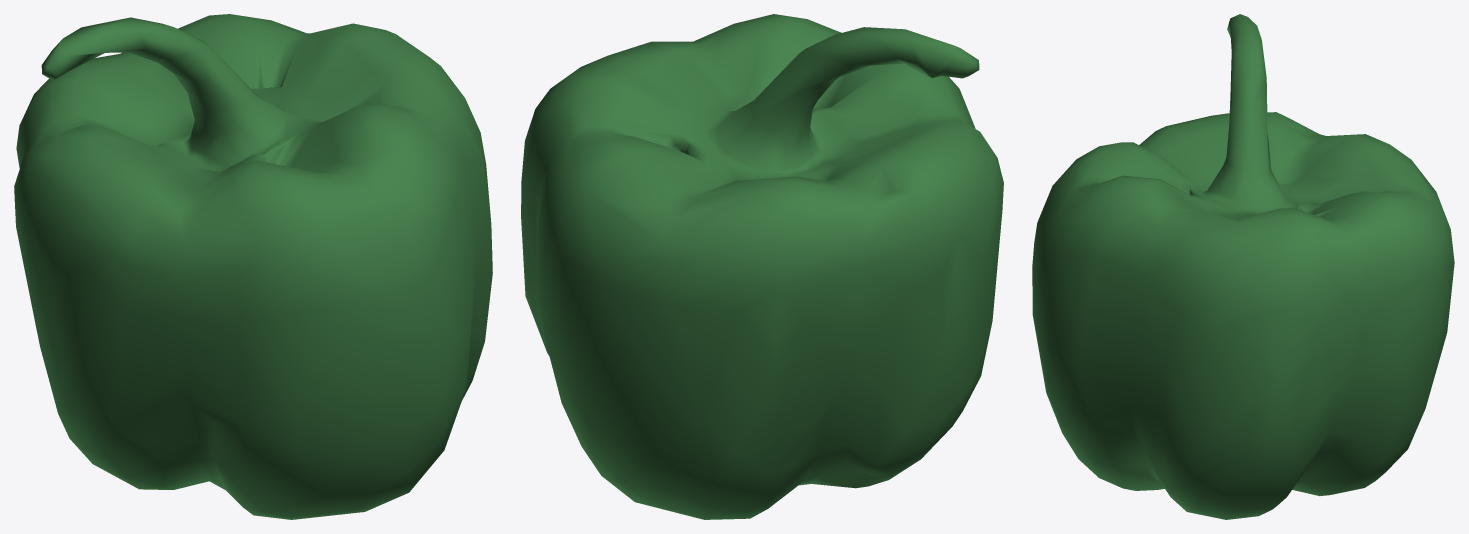
File: pimento verde.fbx
3 renders of one model, left to right at view 1: azimuth 30°, elevation 25°; view 2: azimuth 150°, elevation 25°; view 3: azimuth 270°, elevation 25°, orthographic. The views are drawn at different scales.
Parts seen in each view (by area): view 1: 79_pepper2; view 2: 79_pepper2; view 3: 79_pepper2.
Part boxes in pixels (x1=…): 79_pepper2: x1=14, y1=14, x2=492, y2=519; 79_pepper2: x1=521, y1=14, x2=1003, y2=519; 79_pepper2: x1=1032, y1=14, x2=1454, y2=519.
Size of the model in its own units: 91.63 by 96.37 by 94.41.
